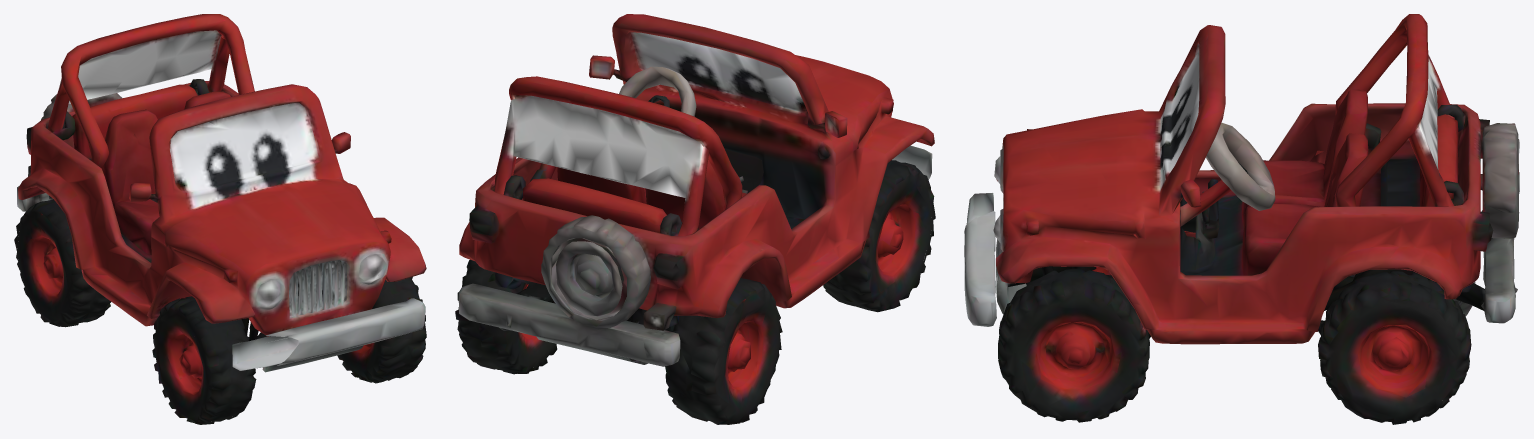
Rendered from jeep_red_mobile.glb.
3 renders of one model, left to right at view 1: azimuth 30°, elevation 25°; view 2: azimuth 150°, elevation 25°; view 3: azimuth 270°, elevation 25°, orthographic. The views are drawn at different scales.
Visible parts, largest first — view 1: Body, Wheel_RR, Wheel_FR; view 2: Body, Wheel_FR, Wheel_RR; view 3: Body, Wheel_RL, Wheel_FL.
Part boxes in pixels (bbox=[...]): Body: bbox=[14, 14, 426, 422]; Wheel_RR: bbox=[17, 206, 110, 327]; Wheel_FR: bbox=[145, 284, 236, 424]; Body: bbox=[455, 14, 935, 422]; Wheel_FR: bbox=[824, 172, 931, 312]; Wheel_RR: bbox=[686, 278, 782, 424]; Body: bbox=[964, 14, 1519, 412]; Wheel_RL: bbox=[1318, 271, 1459, 424]; Wheel_FL: bbox=[1015, 270, 1170, 422].
Bounding box in the file's own units: 2.24 × 2.48 × 4.
1 material, 1 textured.
